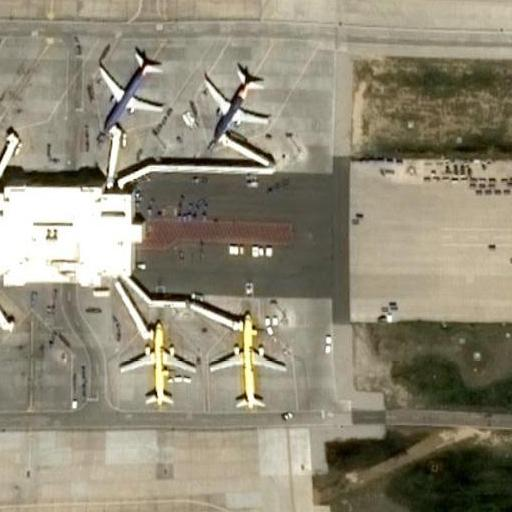Aircraft: (206, 313, 287, 410), (116, 321, 199, 402), (90, 52, 167, 138), (200, 62, 275, 148)
